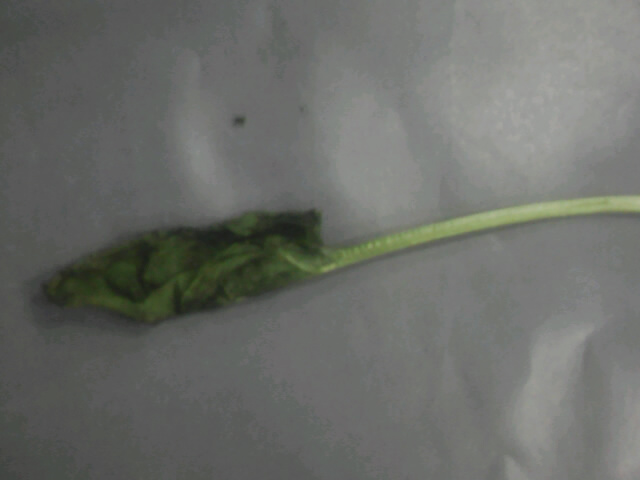yellow: (58, 202, 573, 351)
